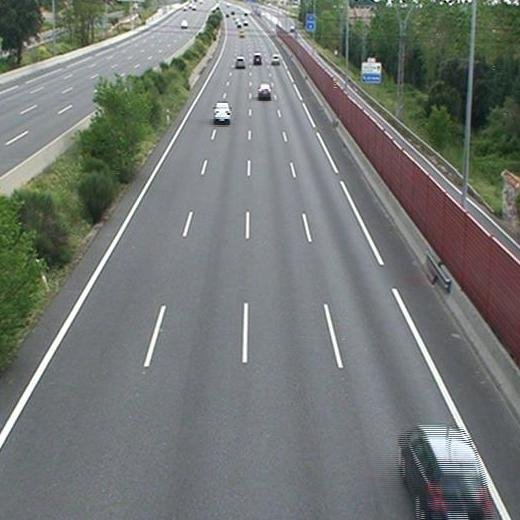car: (400, 427, 487, 520), (212, 103, 230, 122), (257, 84, 271, 99), (234, 58, 247, 68), (253, 53, 263, 65), (270, 56, 279, 64)
